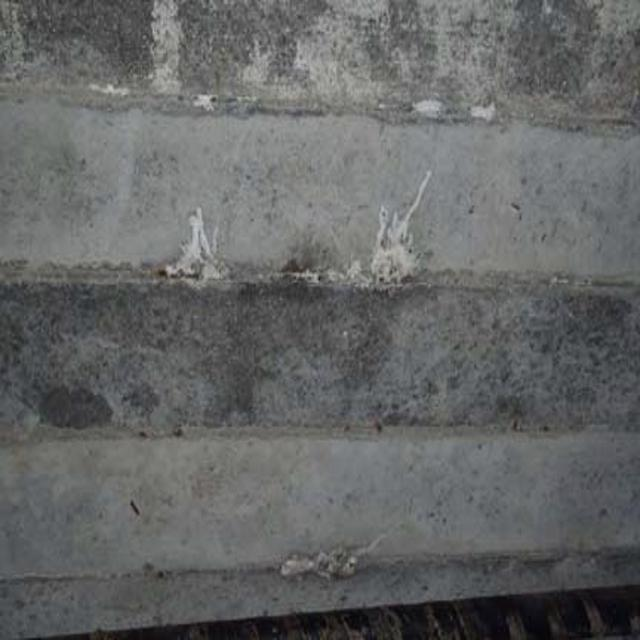freelime: (312, 210, 488, 297), (156, 203, 233, 287)
